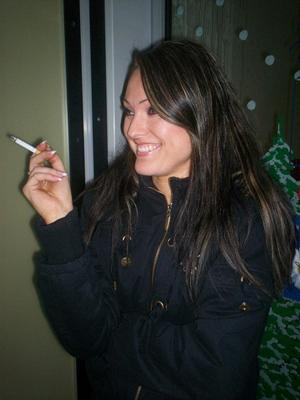person: (22, 34, 297, 398)
